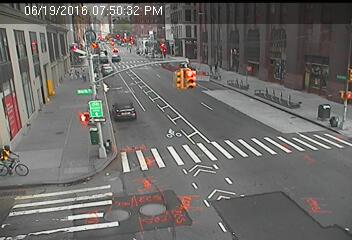neg: (129, 107, 141, 123)
pos: (211, 61, 223, 77)
